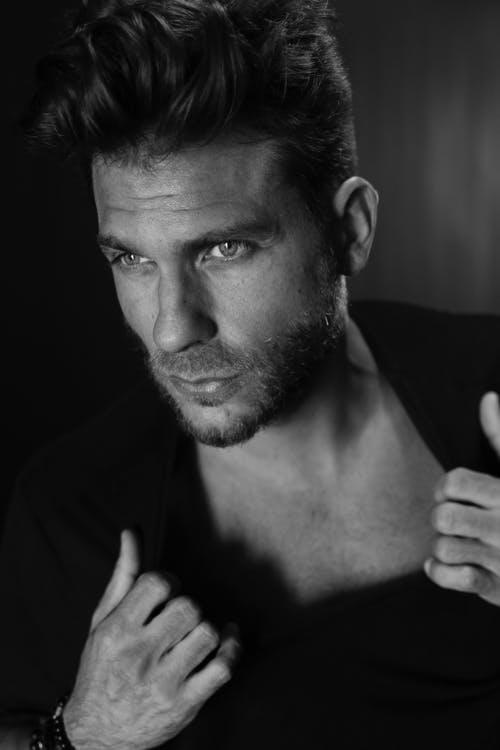Wrinkles: (173, 201, 221, 211), (127, 194, 177, 199), (105, 205, 136, 211), (144, 209, 152, 209)
